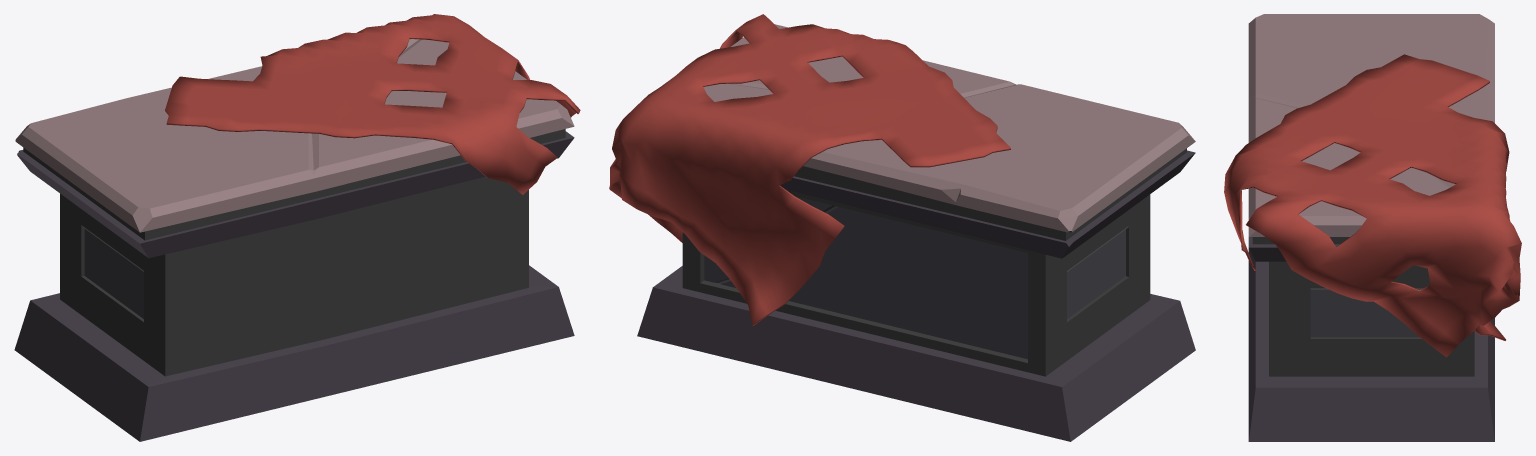
File: altar.fbx
3 views of the same model, side by side, from view 1: azimuth 30°, elevation 25°; view 2: azimuth 150°, elevation 25°; view 3: azimuth 270°, elevation 25° (orthographic). The views are drawn at different scales.
Parts seen in each view (by area): view 1: altar; view 2: altar; view 3: altar.
Boxes of the visible parts, x1,y1,x2,y2 form: altar: (14, 14, 580, 441); altar: (609, 14, 1195, 441); altar: (1224, 14, 1521, 441).
Bounding box in the file's own units: 219 × 108 × 125.
